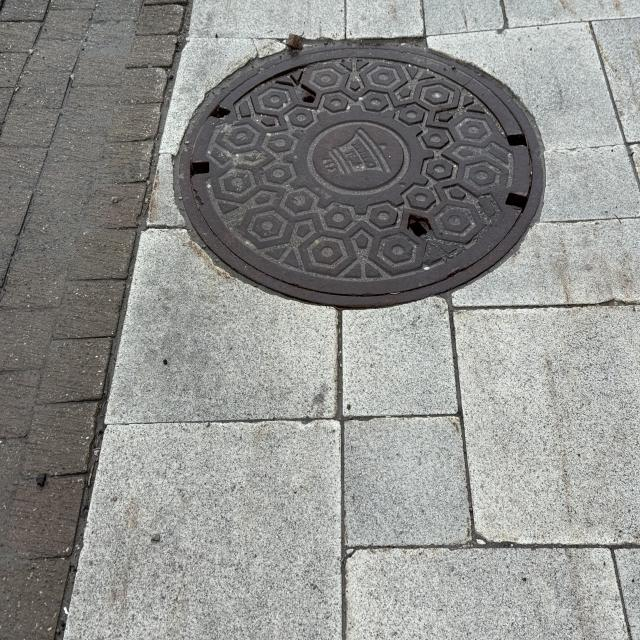Manhole: (178, 42, 547, 306)
